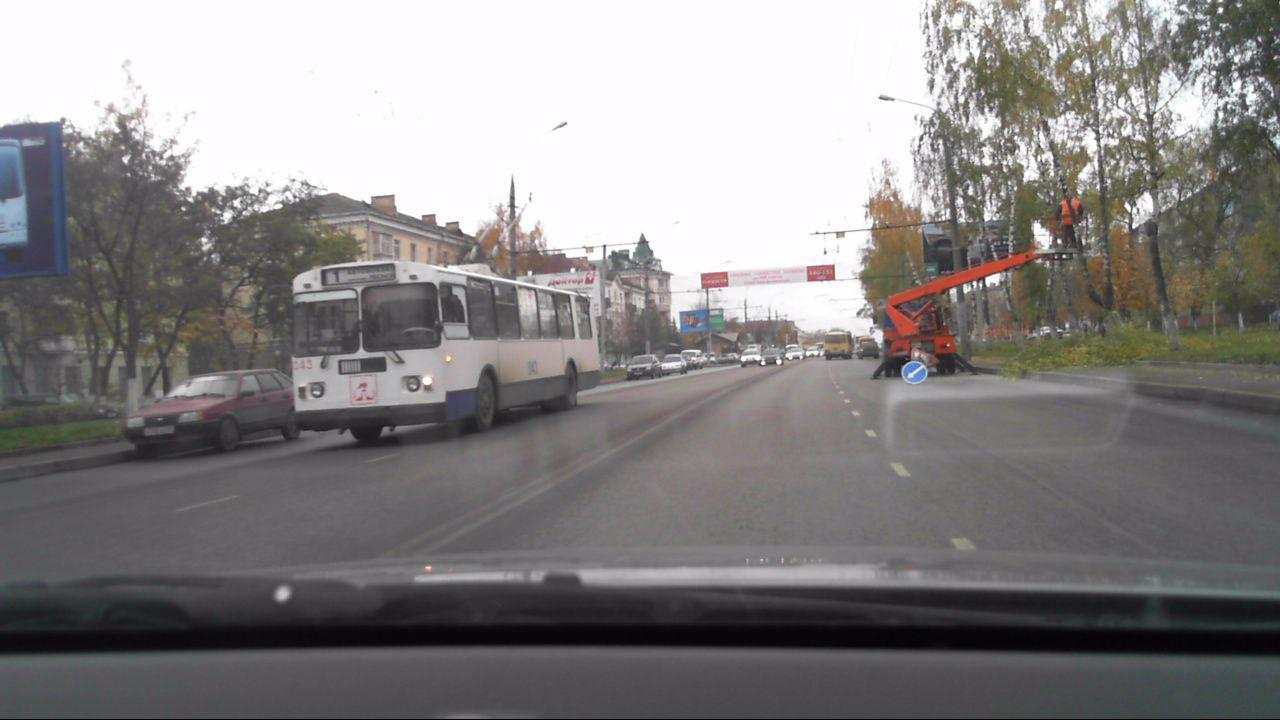4_2_2: (904, 361, 927, 383)
